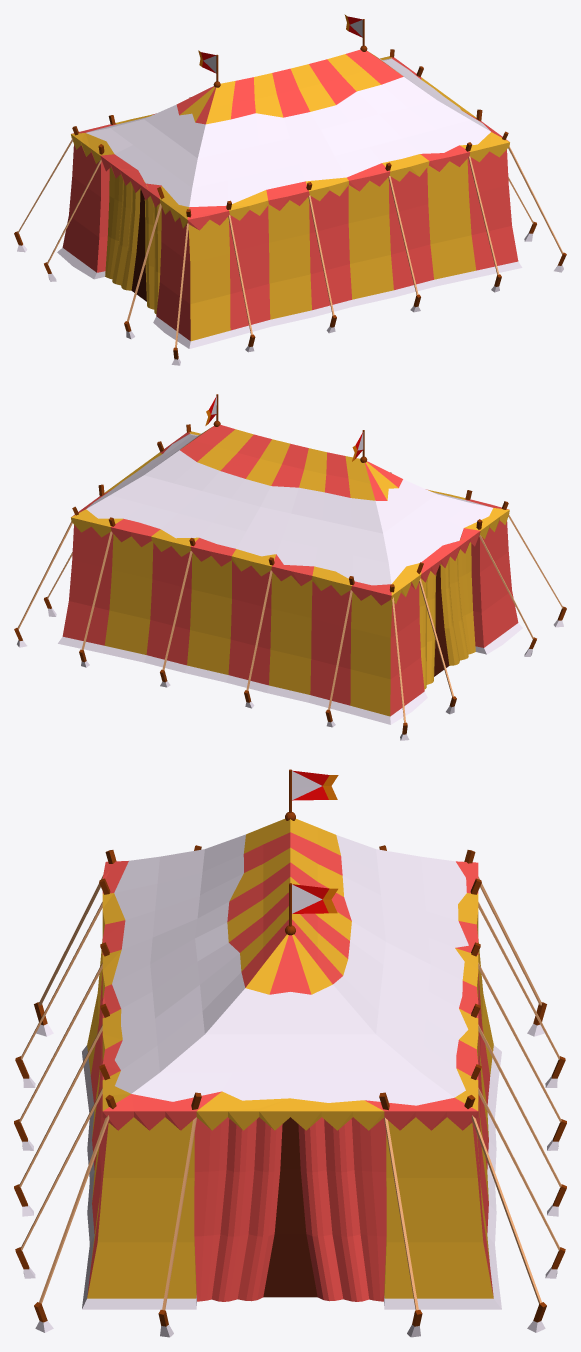
Rendered from tent4.glb.
3 views of the same model, one above another, from view 1: azimuth 30°, elevation 25°; view 2: azimuth 150°, elevation 25°; view 3: azimuth 270°, elevation 25° (orthographic). The views are drawn at different scales.
Parts seen in each view (by area): view 1: Tent4; view 2: Tent4; view 3: Tent4.
Part boxes in pixels (box(x1,y1,x2,y2)): Tent4: box(14, 14, 566, 365); Tent4: box(14, 394, 566, 740); Tent4: box(14, 769, 566, 1337).
Size of what is drawn, in the model's own units: 7.09 by 3.66 by 5.18.
1 material, 1 textured.
